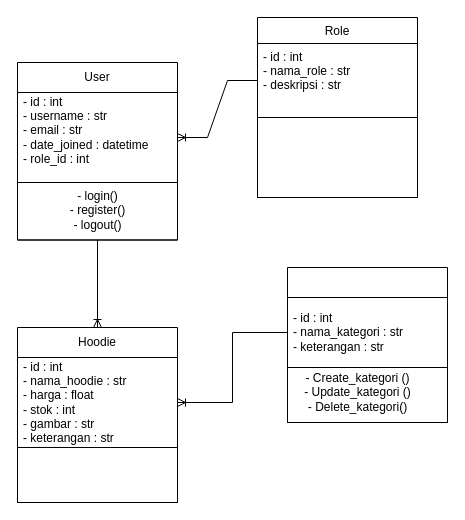
Image size: 465x520. Some labels were removed from this diagram. The shapes that lost their labels are listed below. From the top down, each one's box as (x1, y1, x2, y2) in pixels, then its label:
(256, 116, 418, 198): - Create_role () - Update_role () - Delete_role ()
(286, 266, 448, 422): Kategoti_Hoodie
(16, 446, 178, 502): - Create_hoodie () - Update_hoodie () - Delete_hoodie()
